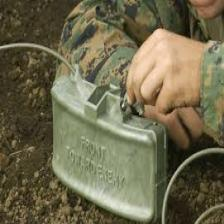MOH-50: (49, 69, 170, 223)
